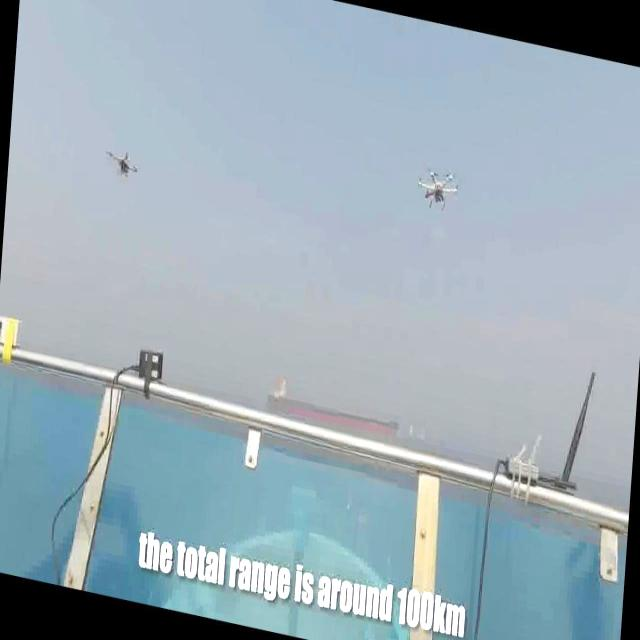drone: (408, 151, 464, 227), (102, 134, 148, 190)
